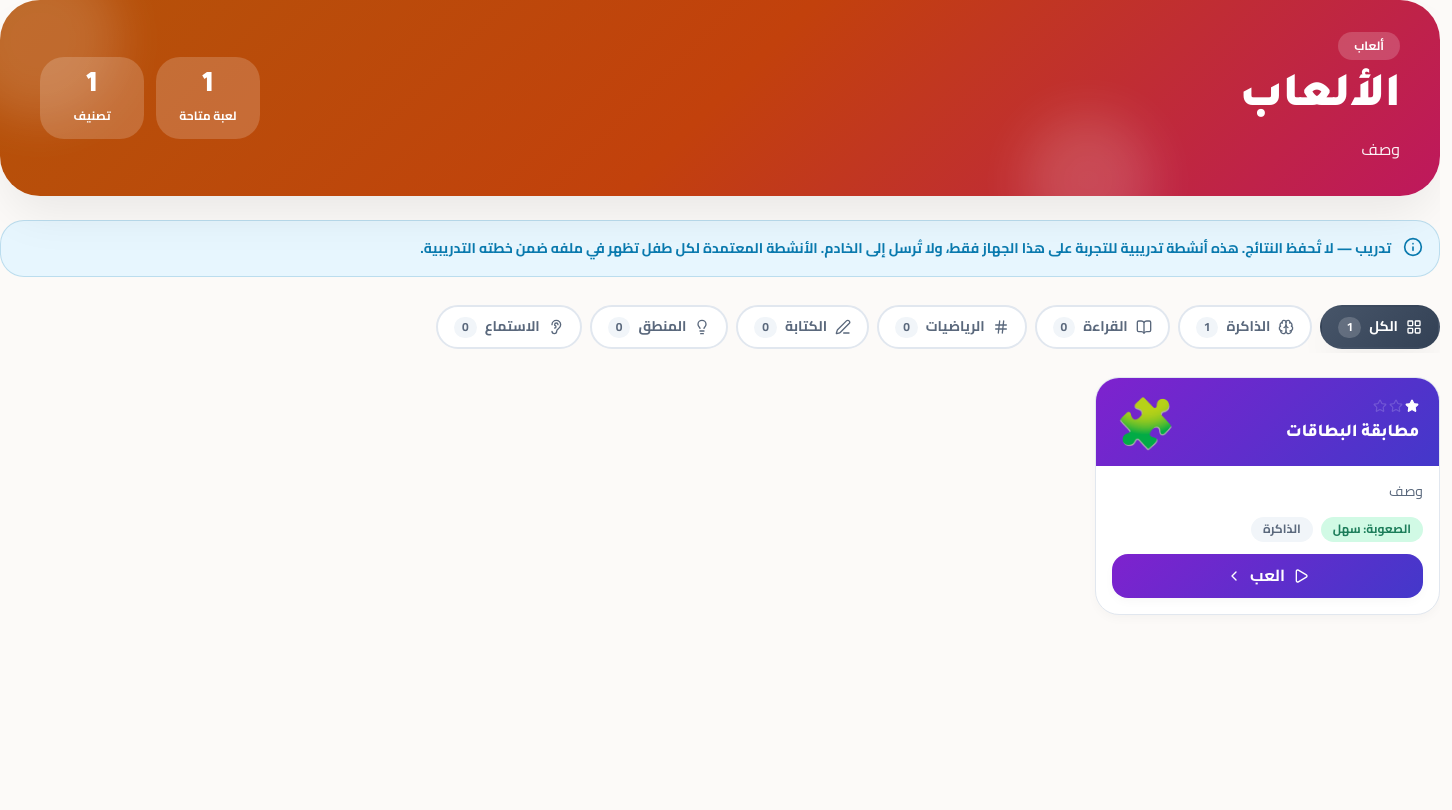
Test: GamesCatalogPage › shows the empty state for a category without items
What coordinates should you click on to do the following:
click the button "الكتابة 0"
I would click on:
 (803, 327)
Its box is x1=736 y1=305 x2=869 y2=349.
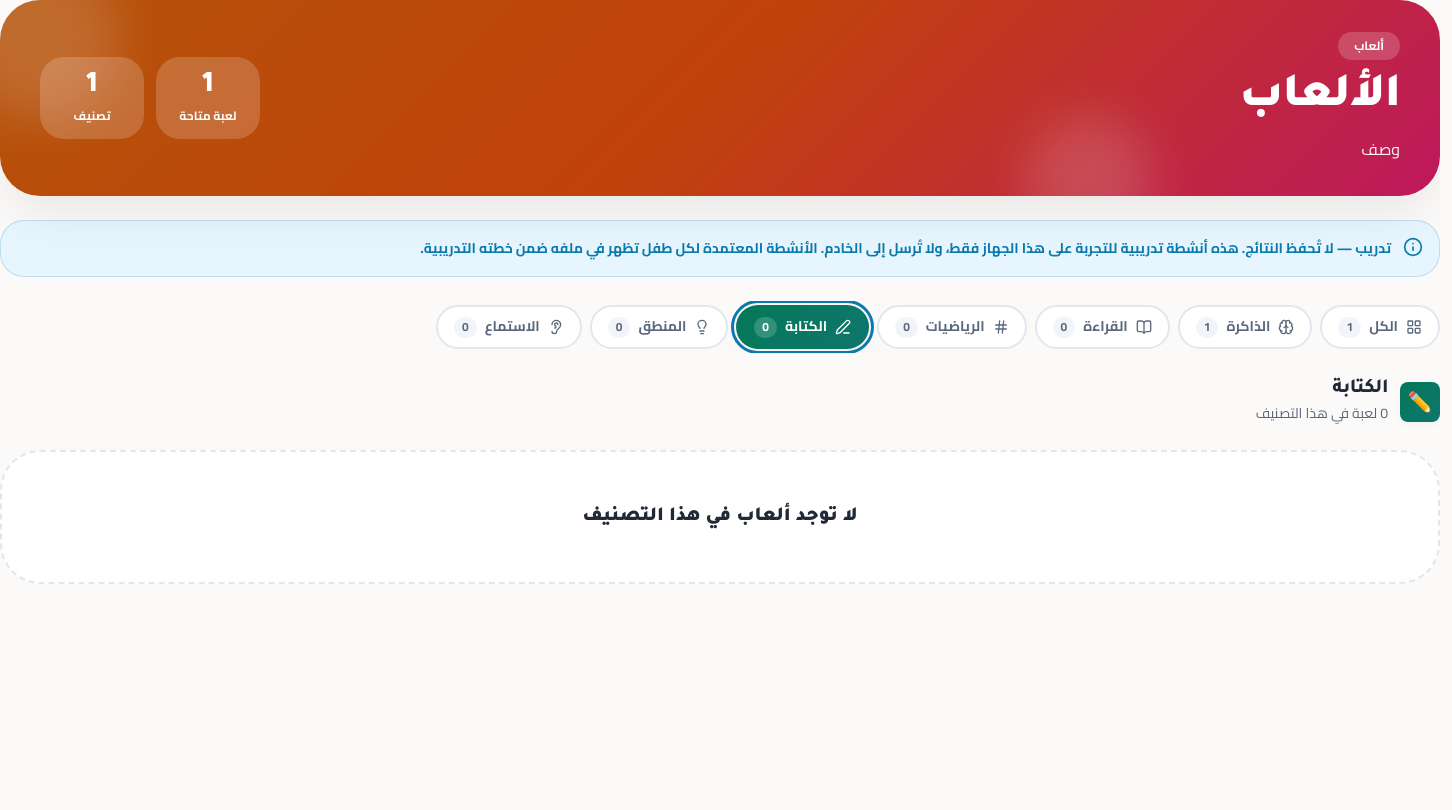
Expected: the text "لا توجد ألعاب في هذا التصنيف" is shown, x1=582 y1=507 x2=858 y2=527
